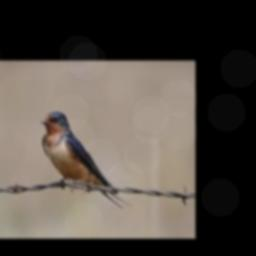Swallow: (40, 112, 132, 207)
